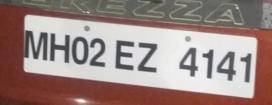0: (70, 34, 89, 68)
1: (201, 47, 215, 81), (239, 51, 253, 84)
2: (91, 36, 108, 69)
4: (176, 44, 200, 79), (217, 49, 237, 83)
E: (113, 37, 135, 72)
H: (50, 28, 70, 66)
M: (22, 27, 49, 62)
Z: (137, 38, 161, 74)
